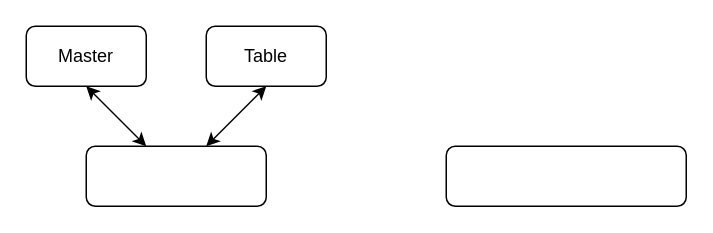
Some shapes in this 713 by 233 pixel diagram are drawn without their labels. Here are the shapes that lost their labels. From the top down, the box of each, then its label:
(85, 145, 266, 206): DBManager
(445, 145, 686, 206): Scene
